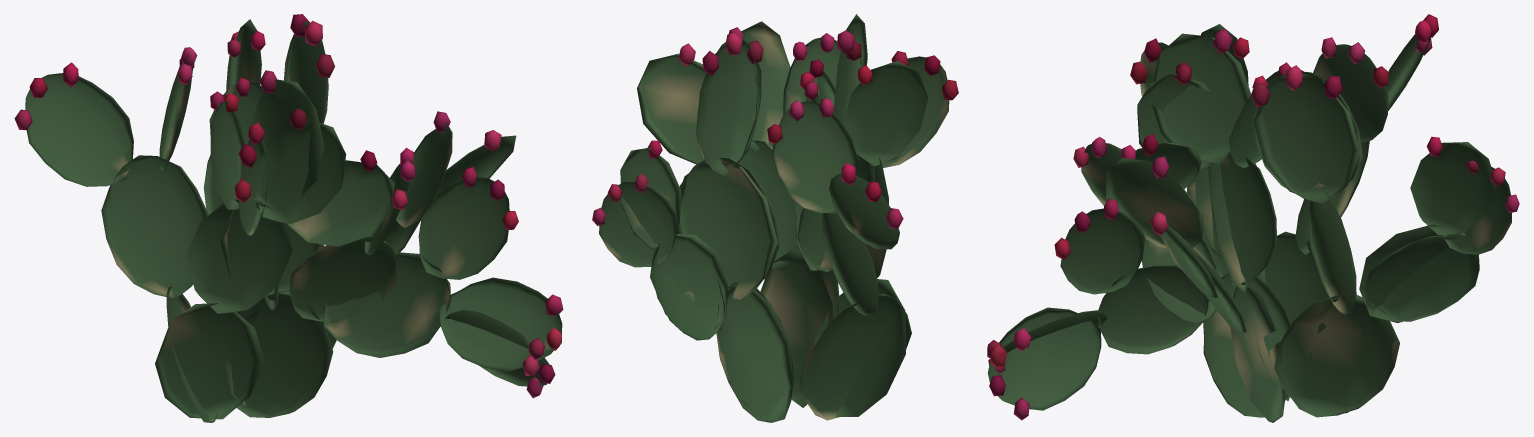
File: prickly-pear.glb
The picture shows the model from 3 angles, left to right: view 1: azimuth 30°, elevation 25°; view 2: azimuth 150°, elevation 25°; view 3: azimuth 270°, elevation 25°; orthographic projection. The views are drawn at different scales.
Parts seen in each view (by area): view 1: prickly-pear, prickly-pear-lo; view 2: prickly-pear-lo, prickly-pear; view 3: prickly-pear-lo, prickly-pear.
Part boxes in pixels (bbox=[...]): prickly-pear: bbox=[14, 14, 563, 422]; prickly-pear-lo: bbox=[155, 19, 516, 419]; prickly-pear-lo: bbox=[620, 14, 928, 421]; prickly-pear: bbox=[592, 33, 958, 422]; prickly-pear-lo: bbox=[1105, 24, 1496, 422]; prickly-pear: bbox=[987, 14, 1519, 420].
Bounding box in the file's own units: 1.31 × 1.23 × 1.54.
